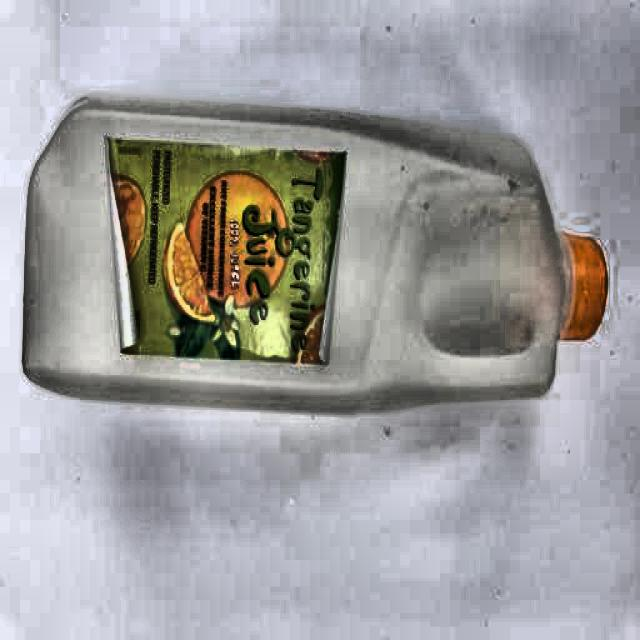plastic: (25, 90, 609, 413)
